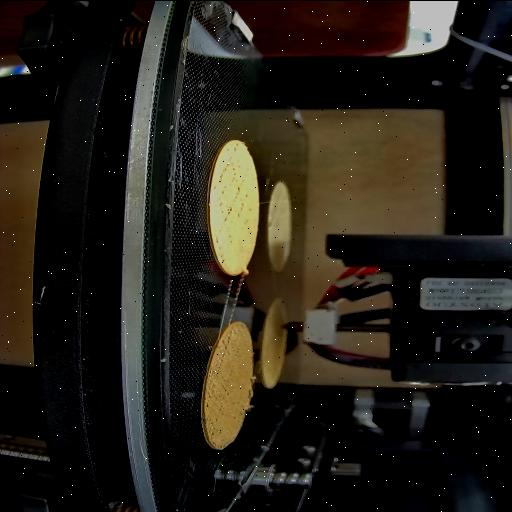under_extrusion: (216, 156, 250, 222), (206, 379, 236, 436), (216, 329, 236, 361), (210, 238, 234, 262)
